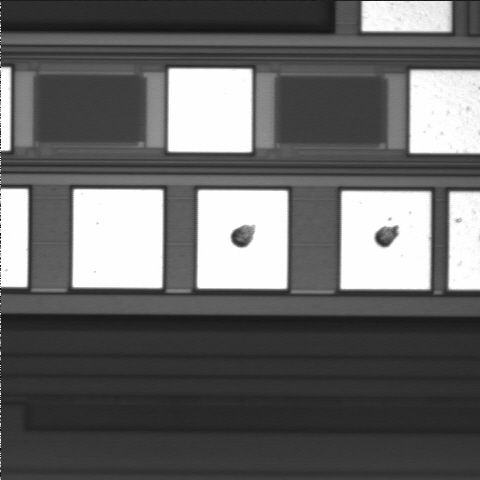pad: (197, 190, 288, 289), (73, 189, 163, 288), (341, 191, 431, 289), (168, 69, 252, 152)
